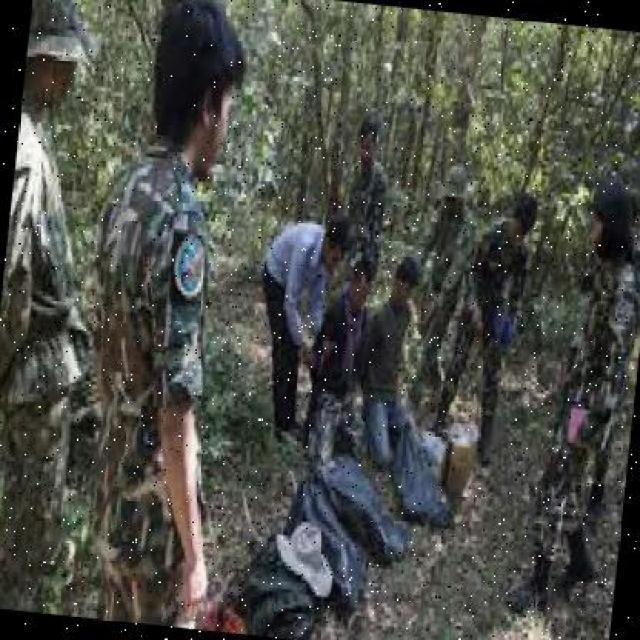poacher: (44, 2, 270, 604), (495, 184, 640, 602), (424, 197, 578, 448), (8, 1, 68, 454), (351, 255, 462, 492), (248, 206, 348, 457), (304, 263, 388, 463), (417, 154, 488, 292)
